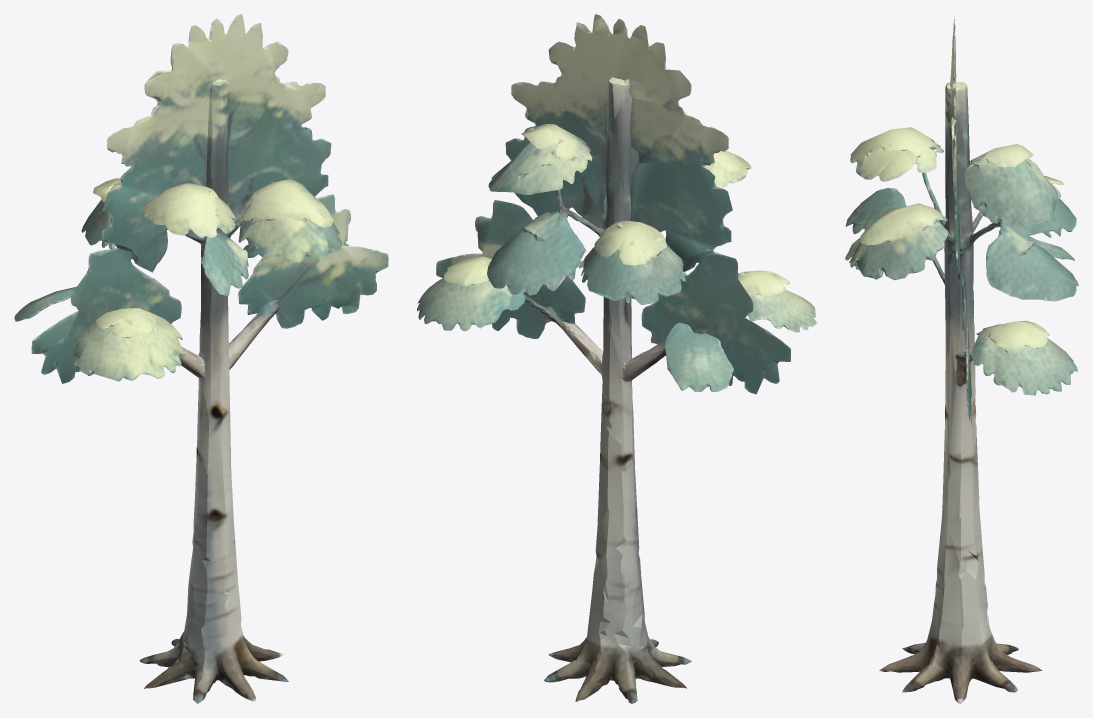
The model's file is birch.glb.
3 views of the same model, side by side, from view 1: azimuth 30°, elevation 25°; view 2: azimuth 150°, elevation 25°; view 3: azimuth 270°, elevation 25° (orthographic).
Visible parts, largest first — view 1: Rodin_birch; view 2: Rodin_birch; view 3: Rodin_birch.
Boxes of the visible parts, x1=… form: Rodin_birch: x1=14, y1=14, x2=388, y2=703; Rodin_birch: x1=417, y1=14, x2=816, y2=703; Rodin_birch: x1=845, y1=16, x2=1078, y2=703.
Size of the model in its own units: 1.08 by 1.9 by 0.6221.
1 material, 1 textured.
